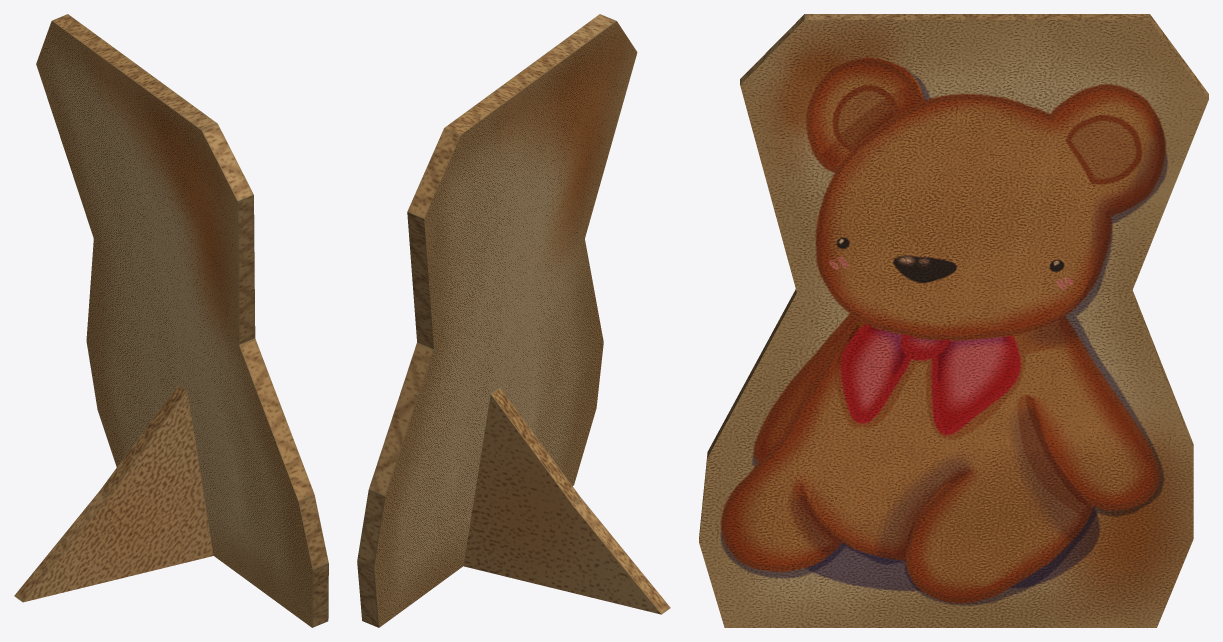
The model's file is CardBaord.fbx.
The picture shows the model from 3 angles, left to right: view 1: azimuth 30°, elevation 25°; view 2: azimuth 150°, elevation 25°; view 3: azimuth 270°, elevation 25°; orthographic projection. The views are drawn at different scales.
Parts seen in each view (by area): view 1: Cube; view 2: Cube; view 3: Cube.
Part boxes in pixels (<box>): Cube: <box>14,14,328,627</box>; Cube: <box>357,14,670,627</box>; Cube: <box>699,14,1208,627</box>.
Bounding box in the file's own units: 171 × 389 × 316.
